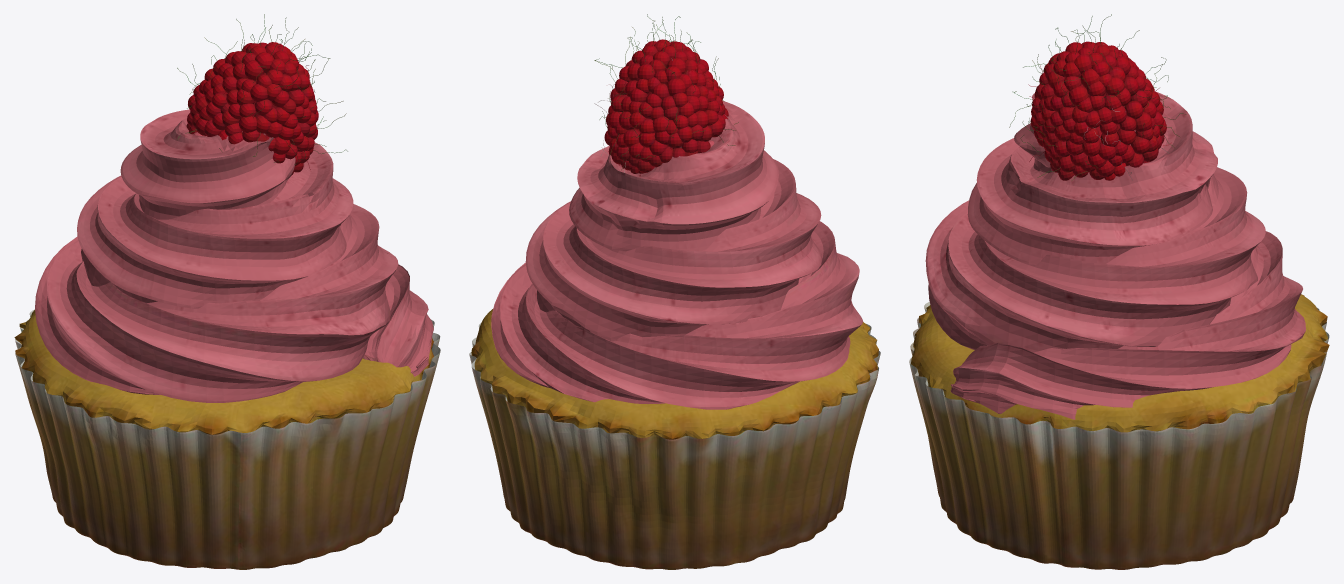
The picture shows the model from 3 angles, left to right: view 1: azimuth 30°, elevation 25°; view 2: azimuth 150°, elevation 25°; view 3: azimuth 270°, elevation 25°; orthographic projection. The views are drawn at different scales.
Visible parts, largest first — view 1: part_00; view 2: part_00; view 3: part_00.
Boxes of the visible parts, x1,y1,x2,y2 form: part_00: (14, 14, 440, 569); part_00: (469, 14, 880, 569); part_00: (909, 14, 1329, 569).
Size of the model in its own units: 0.067 by 0.0843 by 0.0651.
1 material, 1 textured.
